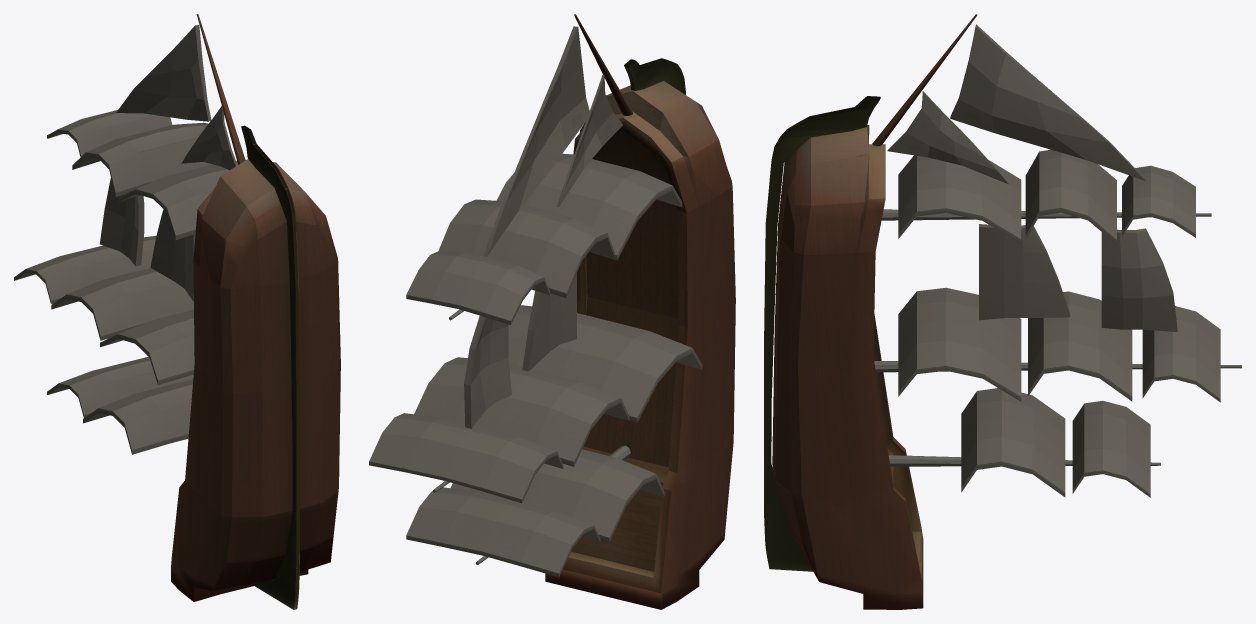
Rendered from ship_of_the_line_enemy.fbx.
3 renders of one model, left to right at view 1: azimuth 30°, elevation 25°; view 2: azimuth 150°, elevation 25°; view 3: azimuth 270°, elevation 25°, orthographic. The views are drawn at different scales.
Visible parts, largest first — view 1: Cube.002; view 2: Cube.002; view 3: Cube.002.
Part boxes in pixels (x1,y1,x2,y2): Cube.002: [14, 14, 340, 609]; Cube.002: [369, 14, 735, 609]; Cube.002: [764, 14, 1241, 609].
Bounding box in the file's own units: 261 × 873 × 665.
Materials: 1 (1 with a texture image).
